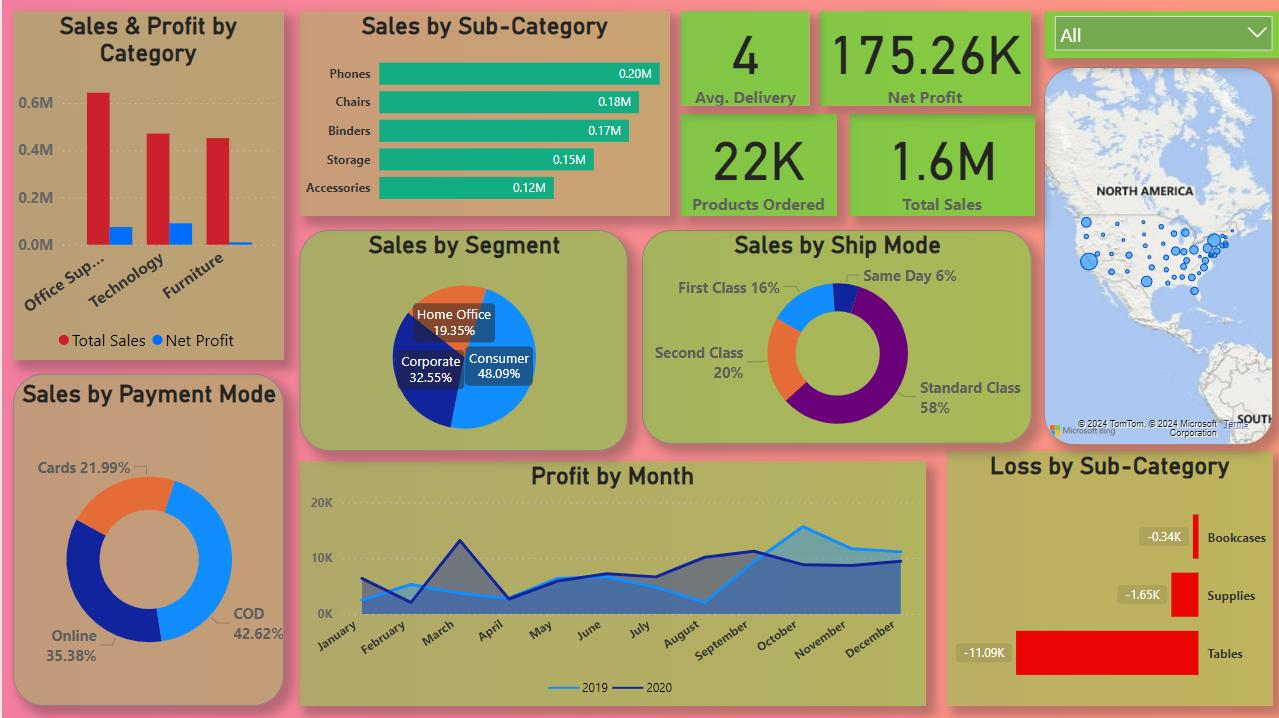

The dashboard page shown, as its layout file describes it:
{"tool":"powerbi","page":{"name":"Dashboard","canvas":[1280,720],"ordinal":0},"visuals":[{"type":"lineClusteredColumnComboChart","title":"Sales & Profit by Category","fields":{"Category":["SuperStore_Sales_Dataset.Category"],"Y":["Sum(SuperStore_Sales_Dataset.Sales)","Sum(SuperStore_Sales_Dataset.Profit)"]},"box":[10.9,10.9,270.2,348.7],"z":0},{"type":"barChart","title":"Sales by Sub-Category","fields":{"Category":["SuperStore_Sales_Dataset.Sub-Category"],"Y":["Sum(SuperStore_Sales_Dataset.Sales)"]},"box":[298,10.9,370.4,205.1],"z":1000},{"type":"barChart","title":"Loss by Sub-Category","fields":{"Category":["SuperStore_Sales_Dataset.Sub-Category"],"Y":["Sum(SuperStore_Sales_Dataset.Profit)"]},"box":[944.6,451.2,325.7,254.6],"z":2000},{"type":"areaChart","title":"Profit by Month","fields":{"Category":["SuperStore_Sales_Dataset.Ship Date.Variation.Date Hierarchy.Month"],"Y":["Sum(SuperStore_Sales_Dataset.Profit)"],"Series":["SuperStore_Sales_Dataset.Ship Date.Variation.Date Hierarchy.Year"]},"box":[298,460.9,626.1,244.9],"z":3000},{"type":"donutChart","title":"Sales by Ship Mode","fields":{"Category":["SuperStore_Sales_Dataset.Ship Mode"],"Y":["Sum(SuperStore_Sales_Dataset.Sales)"]},"box":[639.4,230,389.7,213.5],"z":4000},{"type":"pieChart","title":"Sales by Segment","fields":{"Y":["Sum(SuperStore_Sales_Dataset.Sales)"],"Category":["SuperStore_Sales_Dataset.Segment"]},"box":[298,230.4,328.2,220.8],"z":5000},{"type":"donutChart","title":"Sales by Payment Mode","fields":{"Y":["Sum(SuperStore_Sales_Dataset.Sales)"],"Category":["SuperStore_Sales_Dataset.Payment Mode"]},"box":[10.9,374,270.2,331.8],"z":6000},{"type":"map","fields":{"Category":["SuperStore_Sales_Dataset.State"],"Size":["Sum(SuperStore_Sales_Dataset.Sales)"]},"box":[1042.4,67.6,228,376.4],"z":7000},{"type":"card","fields":{"Values":["Sum(SuperStore_Sales_Dataset.Sales)"]},"box":[846.9,113.4,185.8,102.5],"z":8000},{"type":"card","fields":{"Values":["Sum(SuperStore_Sales_Dataset.Profit)"]},"box":[818,10.9,211.1,94.1],"z":9000},{"type":"card","fields":{"Values":["Sum(SuperStore_Sales_Dataset.Quantity)"]},"box":[679.2,113.4,155.6,102.5],"z":10000},{"type":"slicer","fields":{"Values":["SuperStore_Sales_Dataset.Region"]},"box":[1042.4,10.9,237.7,47.1],"z":11000},{"type":"card","fields":{"Values":["Avg(SuperStore_Sales_Dataset.Avg_Delivery_Days)"]},"box":[679.2,10.9,129.1,94.1],"z":12000}]}

Visuals, with their boxes in screenshot pixels (x1, y1, x2, y2), scaled from the page's 1280x720 canvas onto the 1279x718 screenshot:
"Sales & Profit by Category" lineClusteredColumnComboChart: detection(11, 11, 281, 359)
"Sales by Sub-Category" barChart: detection(298, 11, 668, 215)
"Loss by Sub-Category" barChart: detection(944, 450, 1269, 704)
"Profit by Month" areaChart: detection(298, 460, 923, 704)
"Sales by Ship Mode" donutChart: detection(639, 229, 1028, 442)
"Sales by Segment" pieChart: detection(298, 230, 626, 450)
"Sales by Payment Mode" donutChart: detection(11, 373, 281, 704)
map - SuperStore_Sales_Dataset.State x Sum(SuperStore_Sales_Dataset.Sales): detection(1042, 67, 1269, 443)
card - Sum(SuperStore_Sales_Dataset.Sales): detection(846, 113, 1032, 215)
card - Sum(SuperStore_Sales_Dataset.Profit): detection(817, 11, 1028, 105)
card - Sum(SuperStore_Sales_Dataset.Quantity): detection(679, 113, 834, 215)
slicer - SuperStore_Sales_Dataset.Region: detection(1042, 11, 1278, 58)
card - Avg(SuperStore_Sales_Dataset.Avg_Delivery_Days): detection(679, 11, 808, 105)
